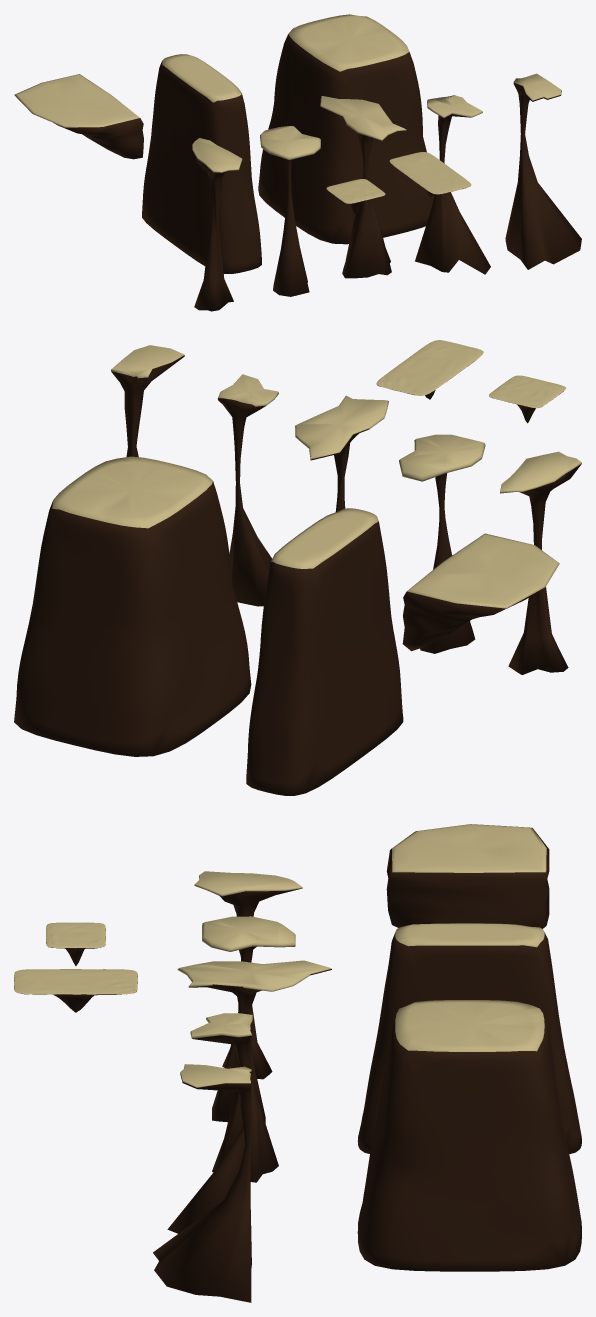
The model's file is LVL1.glb.
The picture shows the model from 3 angles, top to bottom: view 1: azimuth 30°, elevation 25°; view 2: azimuth 150°, elevation 25°; view 3: azimuth 270°, elevation 25°; orthographic projection. The views are drawn at different scales.
Parts seen in each view (by area): view 1: Cube.008, Cube.006, Cube.004, Cube.007, Cube.003, Cube.005, Cube.001, Cube.002, Cube.009, Cube.010; view 2: Cube.008, Cube.006, Cube.007, Cube.002, Cube.005, Cube.001, Cube.003, Cube.009, Cube.004, Cube.010; view 3: Cube.008, Cube.006, Cube.007, Cube.004, Cube.003, Cube.005, Cube.001, Cube.009, Cube.002, Cube.010.
Boxes of the visible parts, left/top/right/bottom form: Cube.008: left=258, top=14, right=434, bottom=244; Cube.006: left=142, top=54, right=261, bottom=273; Cube.004: left=505, top=73, right=581, bottom=269; Cube.007: left=14, top=74, right=143, bottom=159; Cube.003: left=320, top=96, right=406, bottom=278; Cube.005: left=415, top=95, right=490, bottom=274; Cube.001: left=260, top=126, right=320, bottom=296; Cube.002: left=192, top=138, right=242, bottom=311; Cube.009: left=389, top=152, right=471, bottom=197; Cube.010: left=326, top=179, right=385, bottom=214; Cube.008: left=14, top=456, right=251, bottom=756; Cube.006: left=246, top=508, right=403, bottom=795; Cube.007: left=402, top=533, right=559, bottom=651; Cube.002: left=500, top=451, right=581, bottom=674; Cube.005: left=218, top=374, right=278, bottom=606; Cube.001: left=399, top=434, right=485, bottom=653; Cube.003: left=295, top=395, right=388, bottom=511; Cube.009: left=376, top=340, right=483, bottom=399; Cube.004: left=111, top=345, right=184, bottom=457; Cube.010: left=489, top=375, right=566, bottom=423; Cube.008: left=357, top=1000, right=581, bottom=1271; Cube.006: left=357, top=923, right=581, bottom=1153; Cube.007: left=386, top=824, right=549, bottom=928; Cube.004: left=153, top=1064, right=251, bottom=1302; Cube.003: left=177, top=960, right=331, bottom=1182; Cube.005: left=167, top=1013, right=252, bottom=1233; Cube.001: left=202, top=916, right=295, bottom=1123; Cube.009: left=14, top=969, right=137, bottom=1012; Cube.002: left=194, top=871, right=302, bottom=1079; Cube.010: left=46, top=922, right=105, bottom=965.
Size of the model in its own units: 117 by 42.32 by 100.
